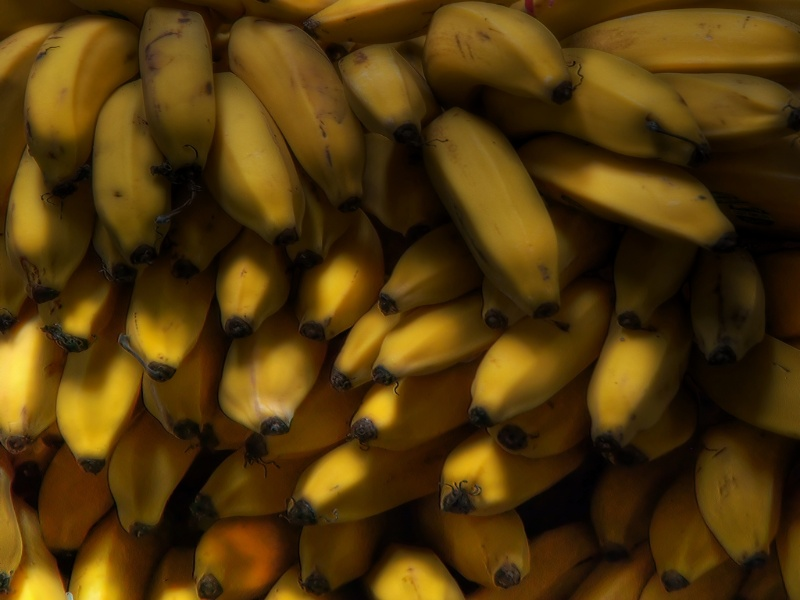banana: (409, 107, 572, 327), (217, 14, 369, 212), (42, 299, 158, 477)
